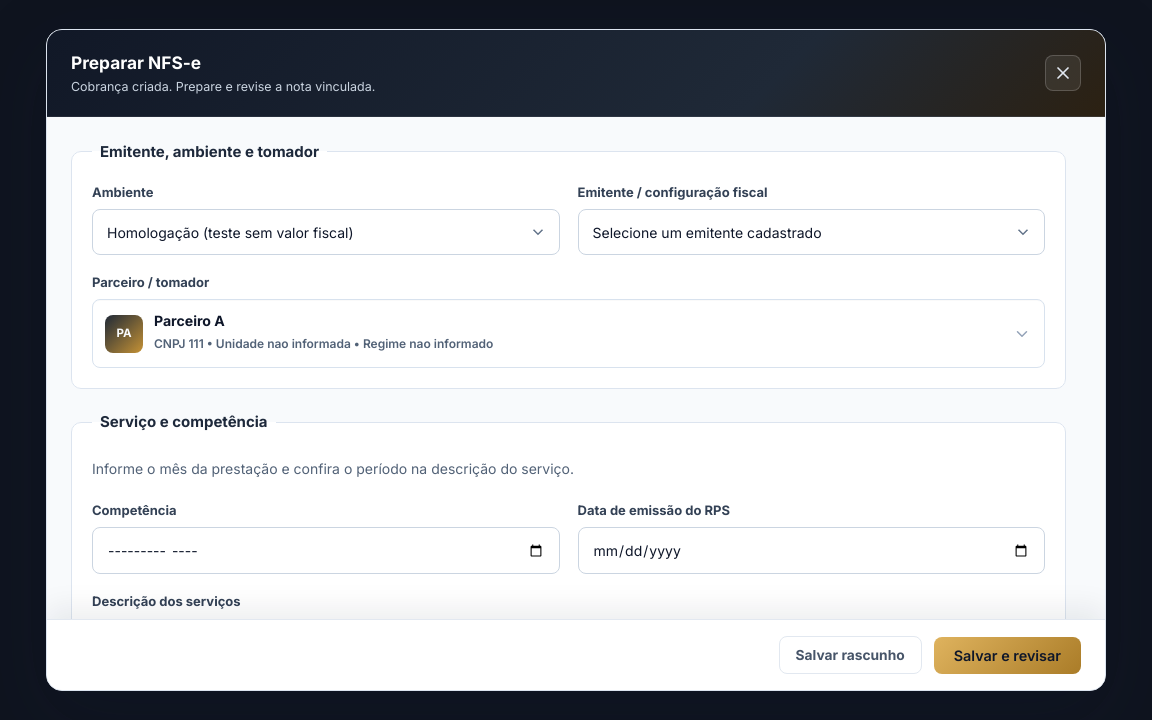
Test: Preparação NFS-e independente › salva o vínculo da cobrança e mantém competência e data vazias até preenchimento explícito
The image size is (1152, 720).
Select "Emitente H · 123" in the dropdown labelled "Emitente / configuração fiscal": [811, 232] box [578,209,1045,255]
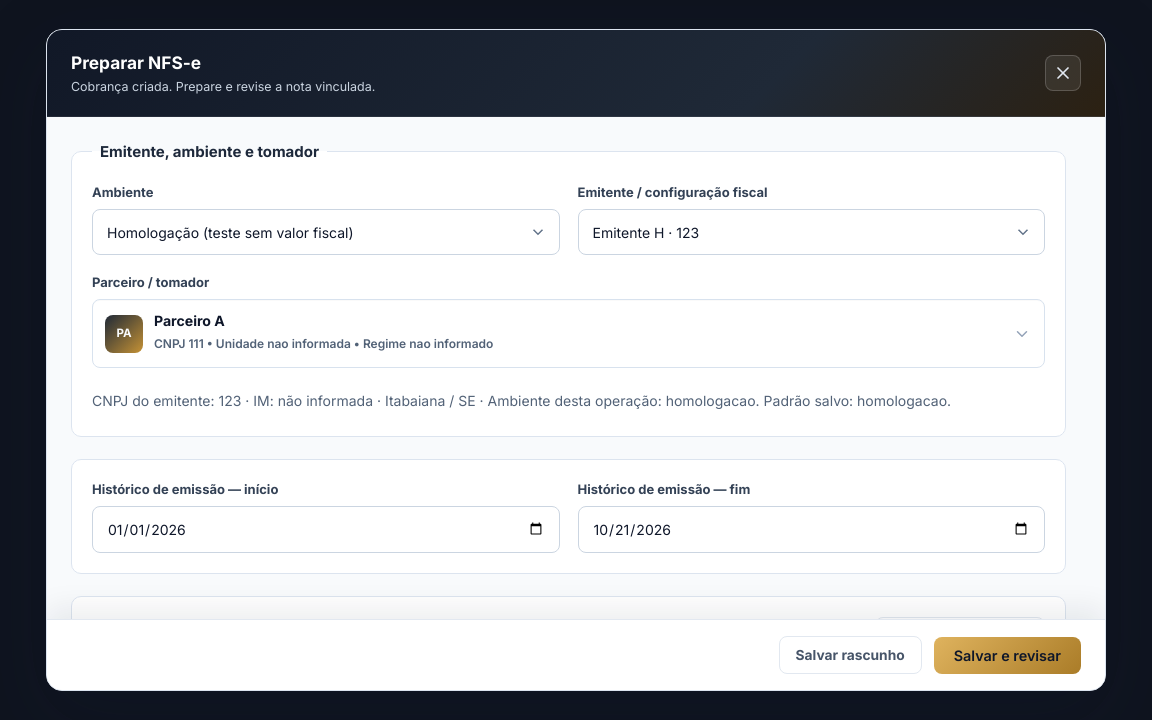
Check: the dropdown named "Parceiro / tomador" is disabled, box [154,309,1001,331]
Click the button "Salvar rascunho": [850, 655] box [779,636,922,674]
(page scrolled)
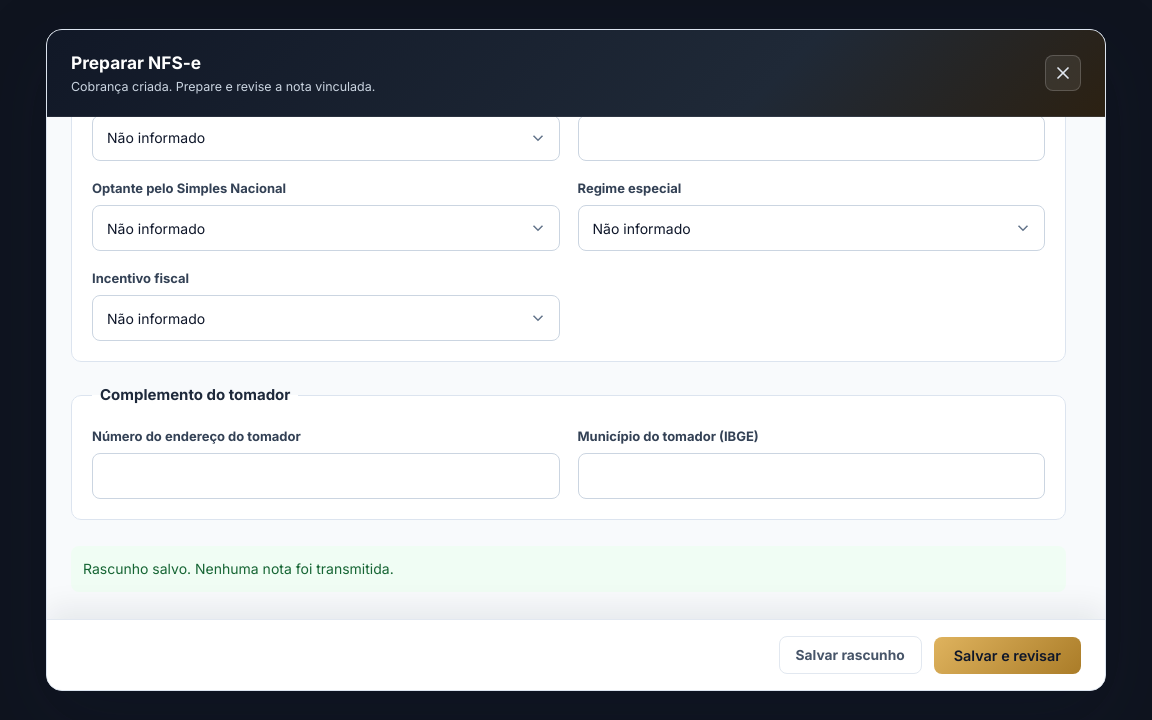
Check: the text "Rascunho salvo. Nenhuma nota foi transmitida." is shown, box [71,546,1066,592]
